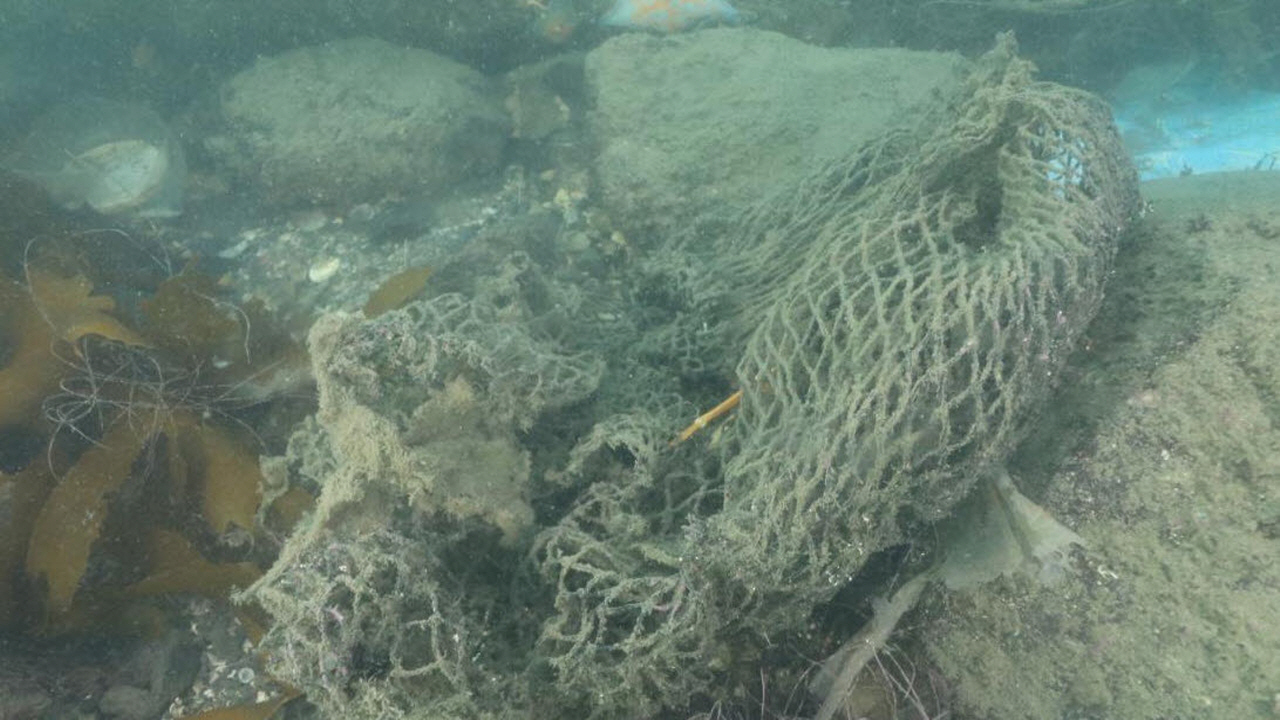fish net: (246, 67, 1137, 720)
